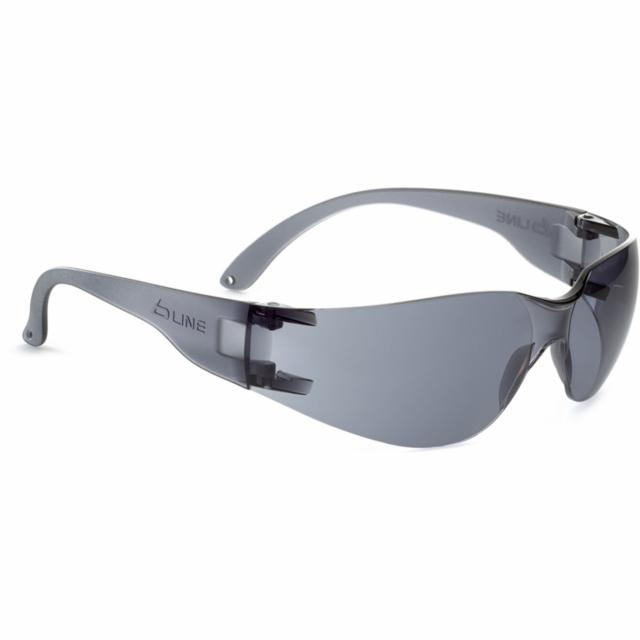Protective Glasses: (11, 121, 640, 501)
